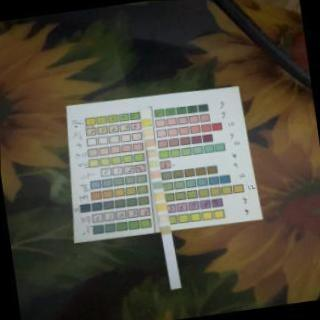mark: (154, 204, 168, 212), (156, 216, 168, 224), (154, 192, 164, 201), (142, 128, 153, 136), (144, 140, 155, 148), (140, 110, 150, 118), (148, 160, 158, 168), (150, 170, 160, 178), (152, 182, 162, 190), (147, 150, 158, 157), (142, 119, 152, 126), (160, 226, 170, 233)
